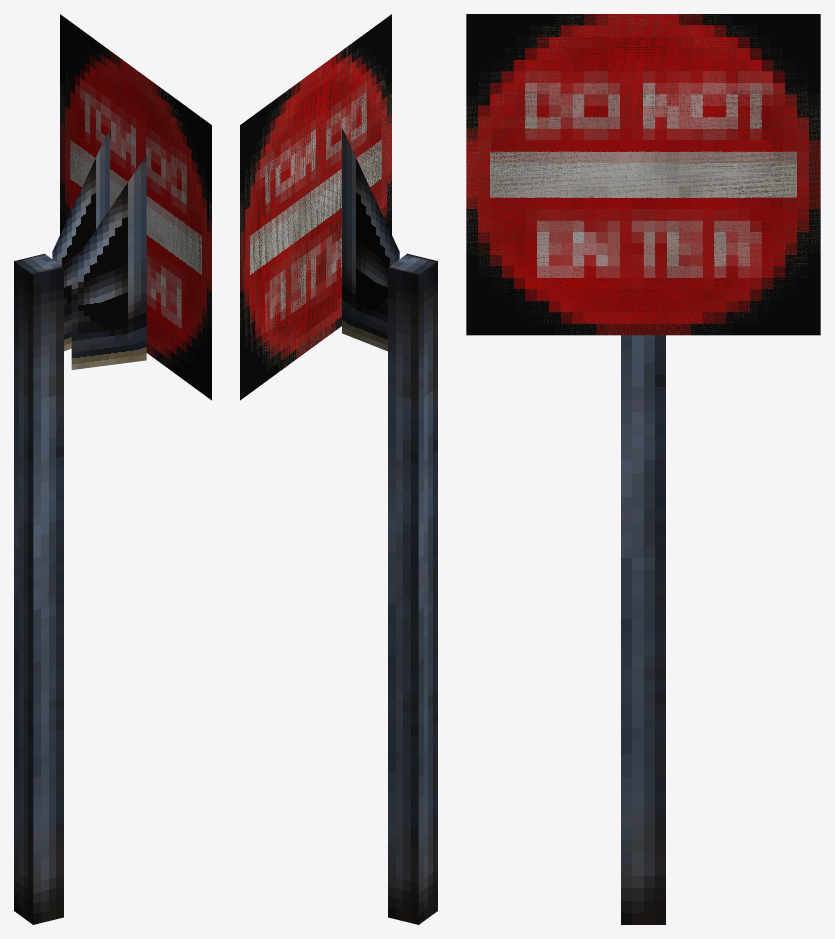
The picture shows the model from 3 angles, left to right: view 1: azimuth 30°, elevation 25°; view 2: azimuth 150°, elevation 25°; view 3: azimuth 270°, elevation 25°; orthographic projection. The views are drawn at different scales.
Parts seen in each view (by area): view 1: nprim164-roadsign.001; view 2: nprim164-roadsign.001; view 3: nprim164-roadsign.001.
Part boxes in pixels (x1,y1,x2,y2): nprim164-roadsign.001: (14,14,211,924); nprim164-roadsign.001: (240,14,437,924); nprim164-roadsign.001: (466,14,820,924).
Bounding box in the file's own units: 44 × 307 × 103.
Materials: 4 (4 with a texture image).
